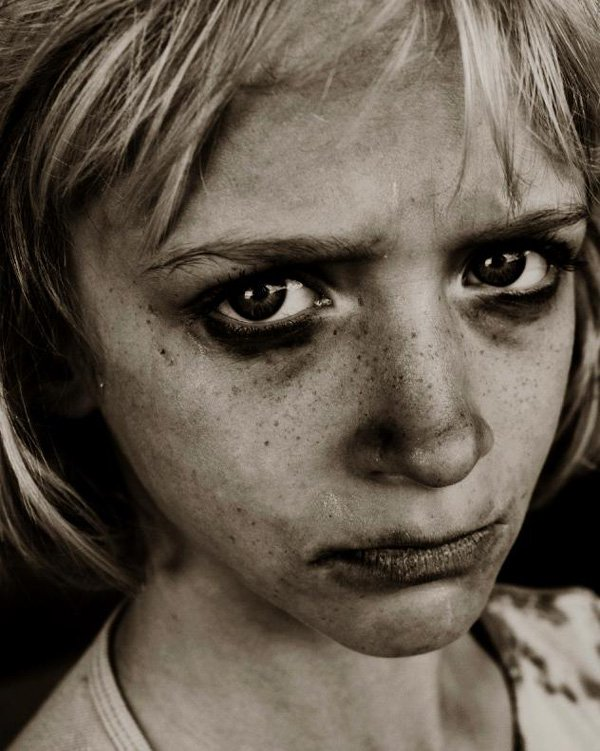sad: (62, 115, 600, 677)
